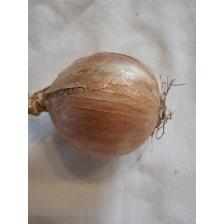Zwiebel: (28, 48, 176, 160)
